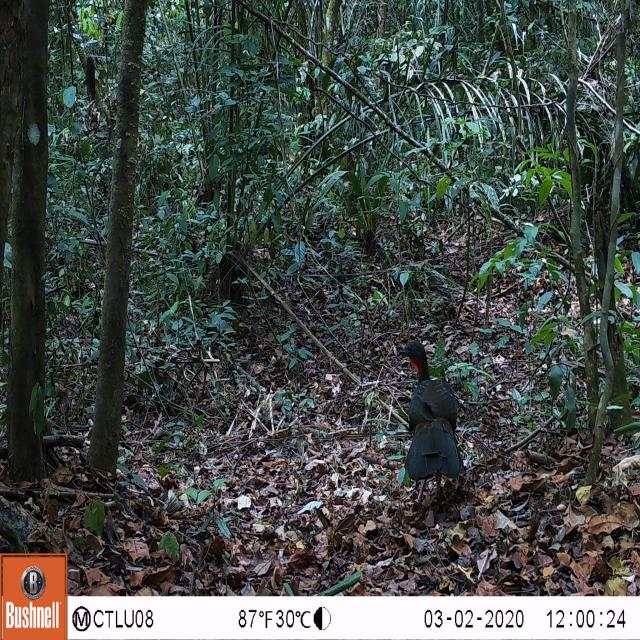Spixs Guan: (396, 334, 467, 528)
